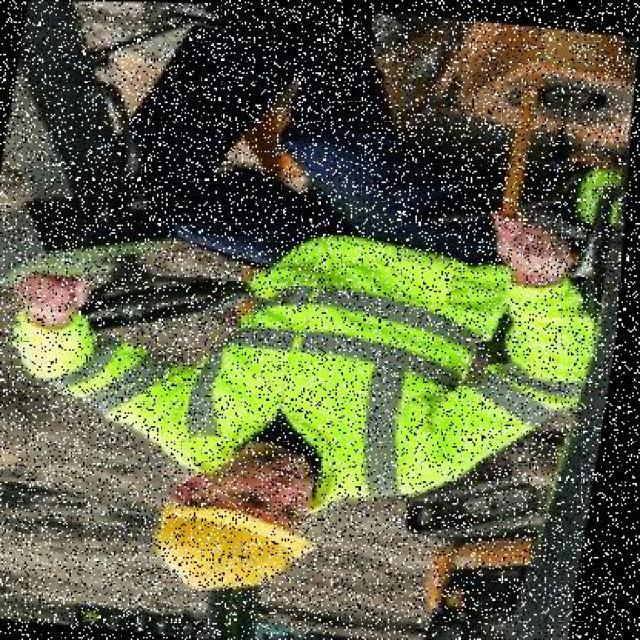helmet: (138, 489, 356, 597)
vest: (154, 203, 554, 503)
